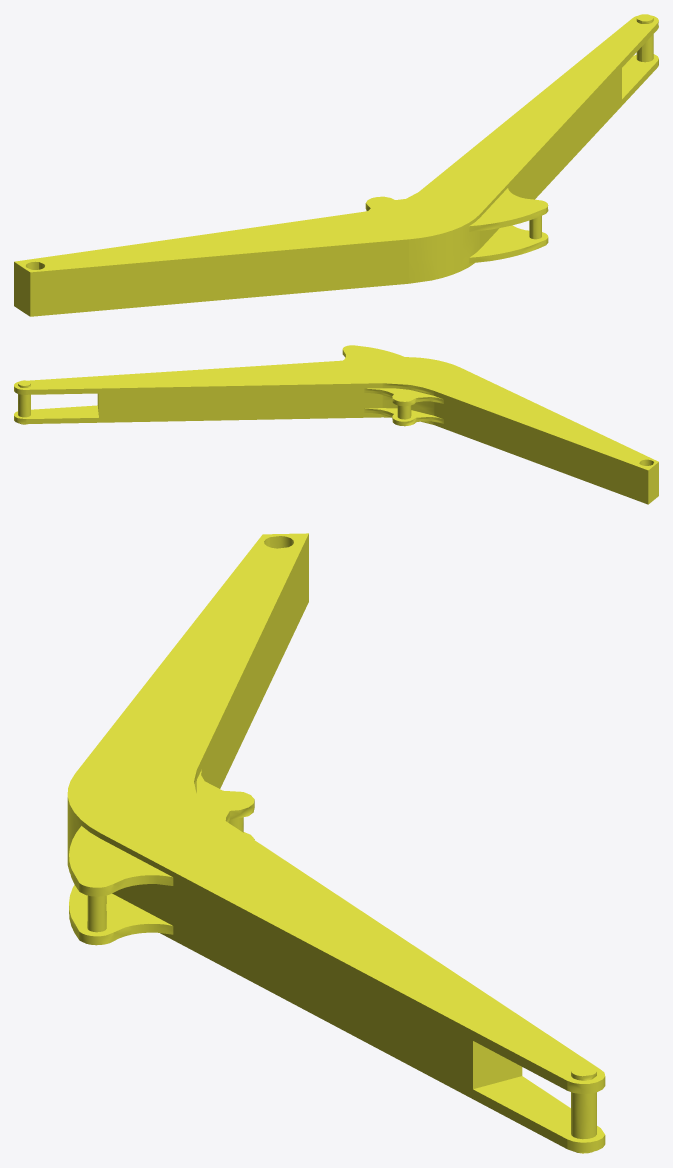
File: boom.glb
3 renders of one model, top to bottom at view 1: azimuth 30°, elevation 25°; view 2: azimuth 150°, elevation 25°; view 3: azimuth 270°, elevation 25°, orthographic. The views are drawn at different scales.
Visible parts, largest first — view 1: material_0; view 2: material_0; view 3: material_0.
Part boxes in pixels (<box>): material_0: <box>14,14,658,316</box>; material_0: <box>14,345,658,504</box>; material_0: <box>67,533,605,1153</box>.
Bounding box in the file's own units: 2.67 × 0.175 × 1.1.
